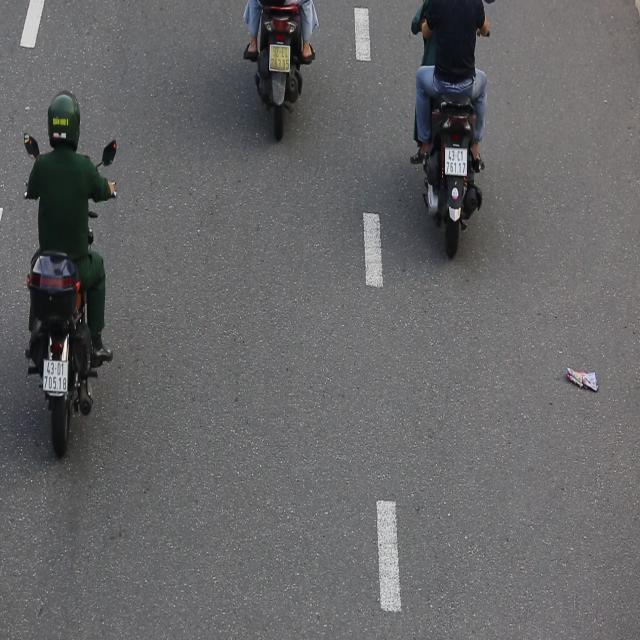motorbike: (20, 85, 120, 464)
